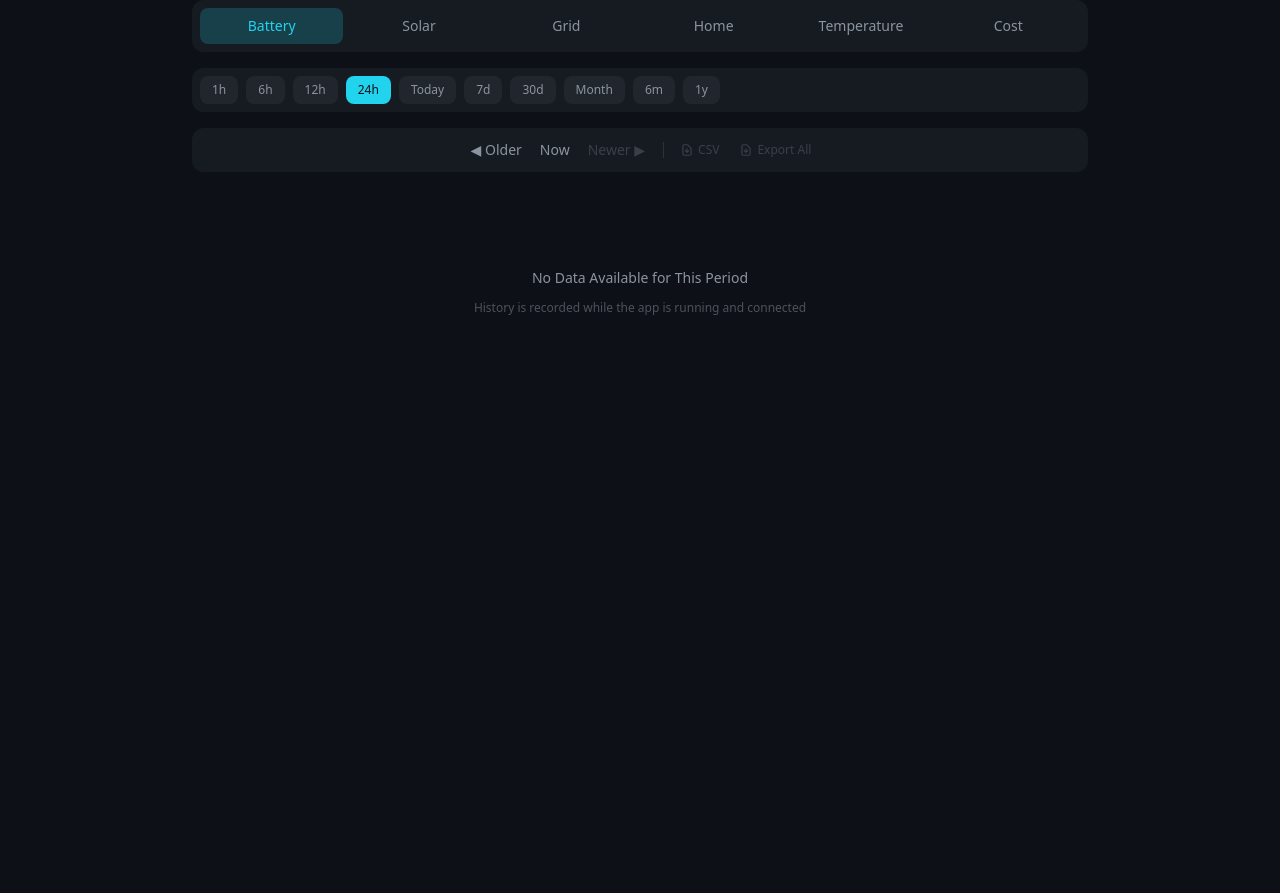
Test: <HistoryPage/> — period totals, cost breakdown, window labels › window label — paged offset display › shows a date range label after paging back
What coordinates should you click on to do the following:
click the button "◀ Older"
I would click on:
 (496, 150)
Its box is [461, 134, 532, 166].
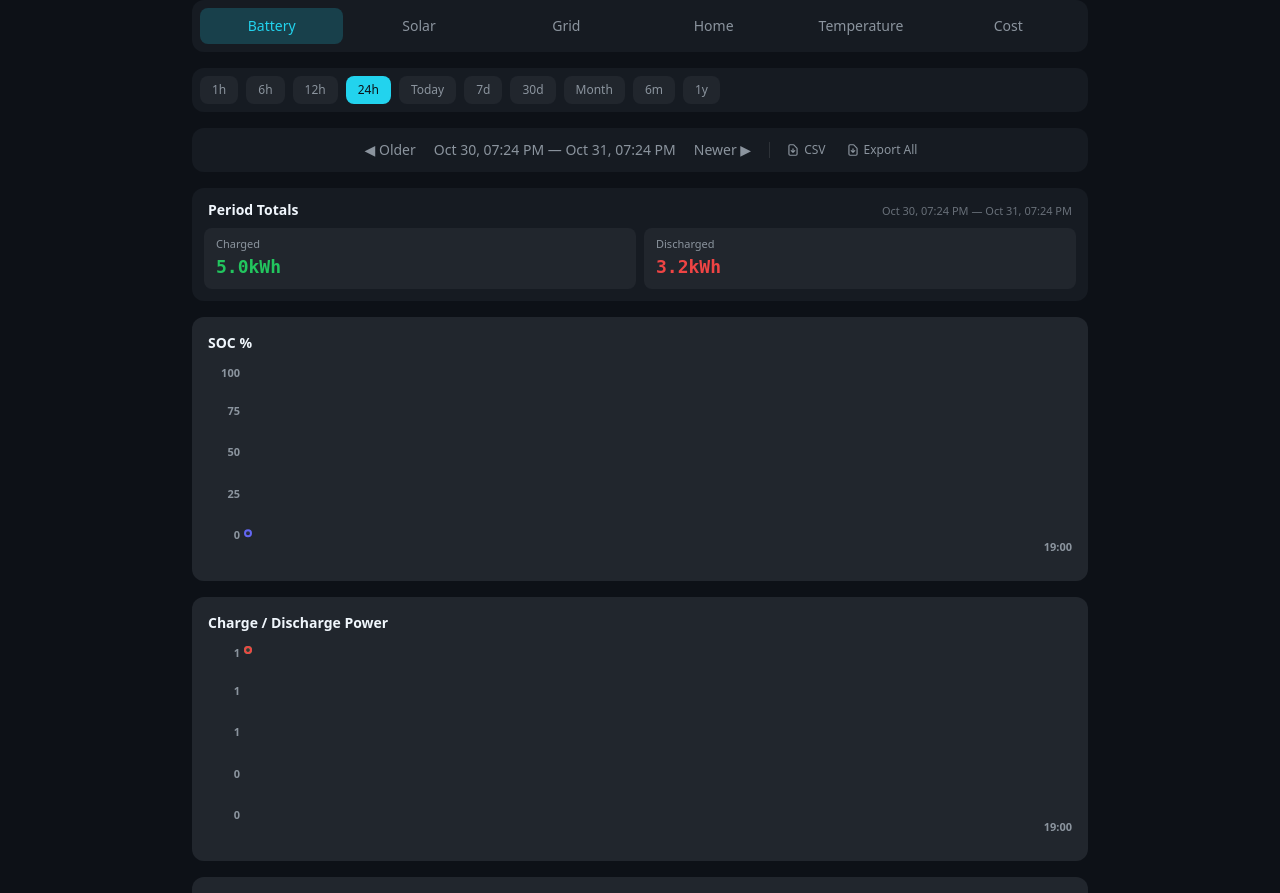
Result: the text "Now" is gone
